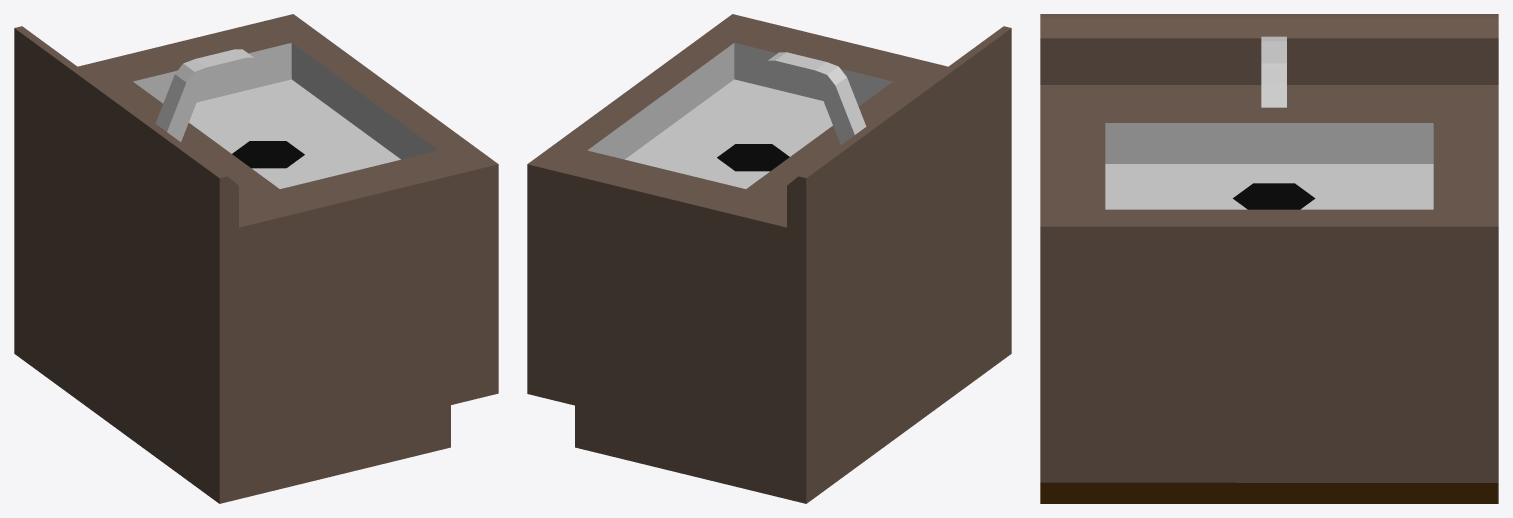
Rendered from Kitchen Sink.fbx.
3 renders of one model, left to right at view 1: azimuth 30°, elevation 25°; view 2: azimuth 150°, elevation 25°; view 3: azimuth 270°, elevation 25°, orthographic. The views are drawn at different scales.
Parts seen in each view (by area): view 1: sink; view 2: sink; view 3: sink.
Part boxes in pixels (box(x1,y1,x2,y2)): sink: box(14, 14, 498, 503); sink: box(527, 14, 1011, 503); sink: box(1040, 14, 1498, 503).
Size of the model in its own units: 81.45 by 95.67 by 104.
